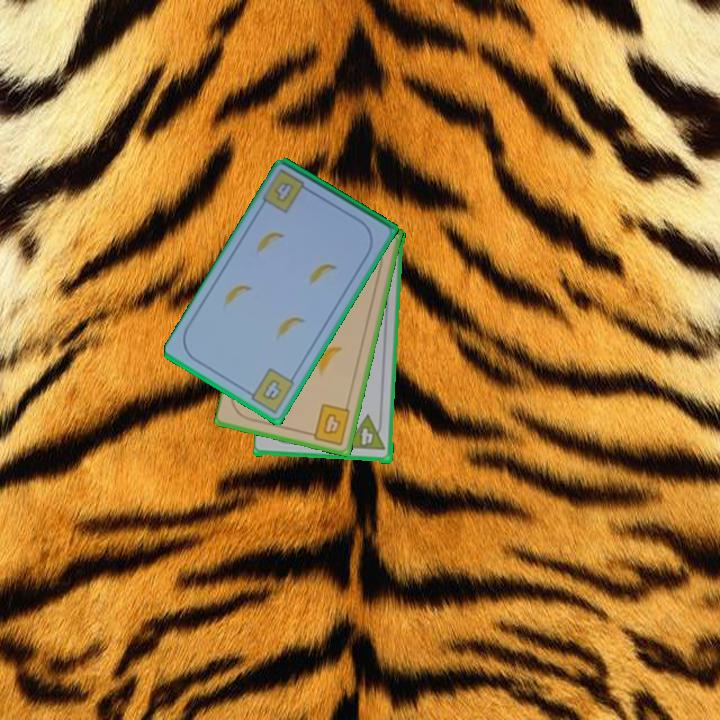4b: (243, 365, 297, 416), (304, 400, 353, 448), (271, 178, 297, 206)
4p: (344, 413, 388, 454)
